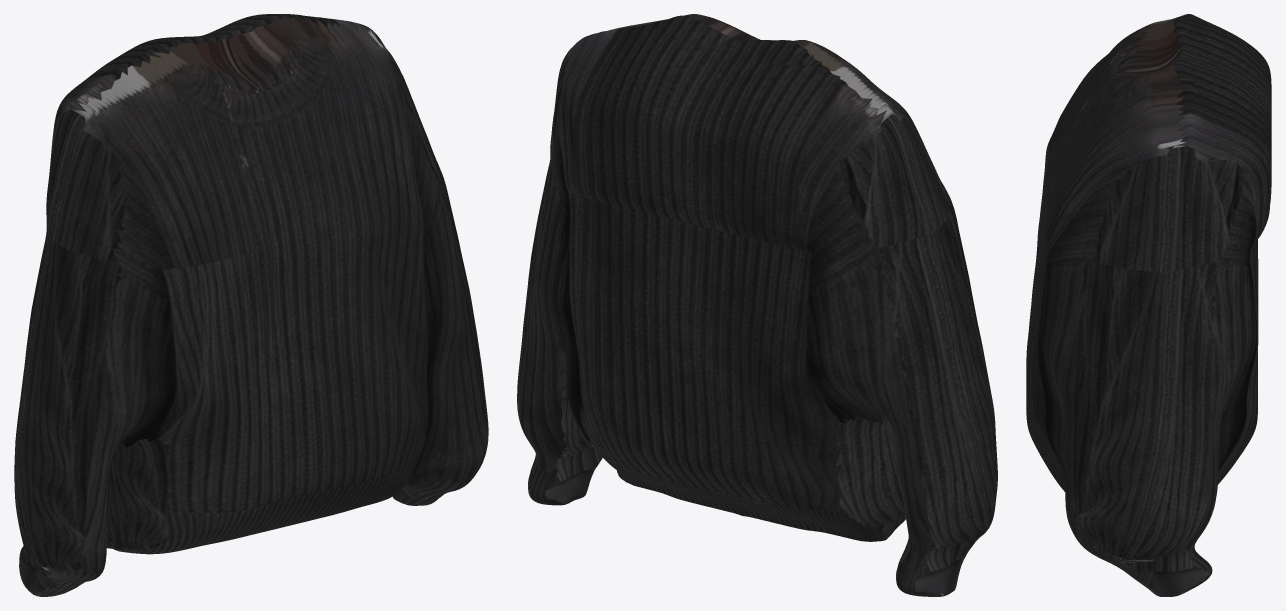
File: NF010-photo-v4.glb
3 renders of one model, left to right at view 1: azimuth 30°, elevation 25°; view 2: azimuth 150°, elevation 25°; view 3: azimuth 270°, elevation 25°, orthographic. The views are drawn at different scales.
Visible parts, largest first — view 1: NF010_worn_photo_fitted; view 2: NF010_worn_photo_fitted; view 3: NF010_worn_photo_fitted.
Boxes of the visible parts, x1,y1,x2,y2 form: NF010_worn_photo_fitted: (14, 14, 488, 596); NF010_worn_photo_fitted: (517, 14, 997, 596); NF010_worn_photo_fitted: (1026, 14, 1271, 596).
Size of the model in its own units: 0.585 by 0.6317 by 0.3002.
3 materials, 3 textured.
